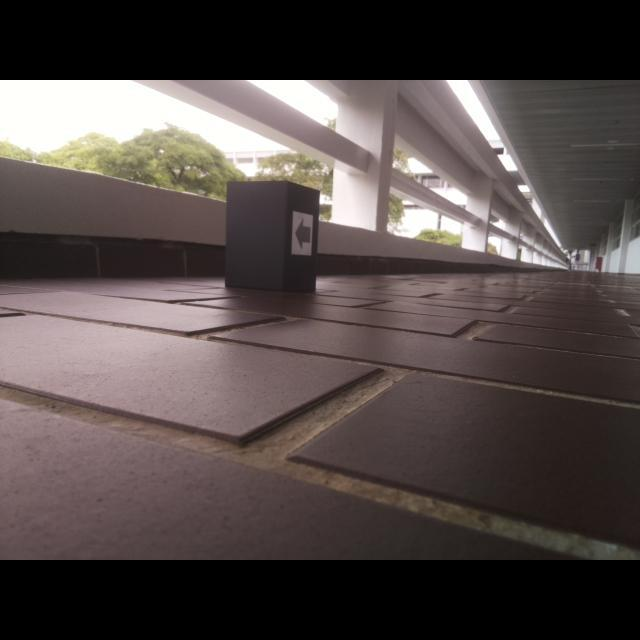LEFT: (294, 217, 311, 251)
